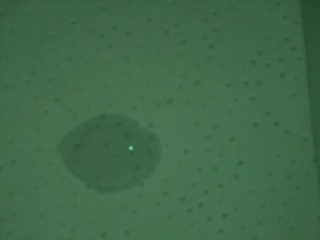Water_detected: (76, 126, 157, 187)
